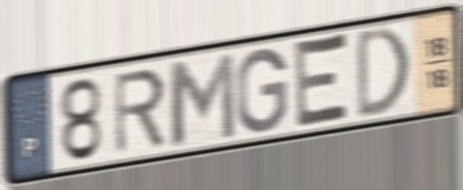8: (57, 75, 104, 163)
D: (355, 22, 413, 124)
E: (293, 30, 352, 133)
G: (234, 45, 289, 136)
M: (164, 49, 239, 149)
R: (111, 65, 169, 158)
